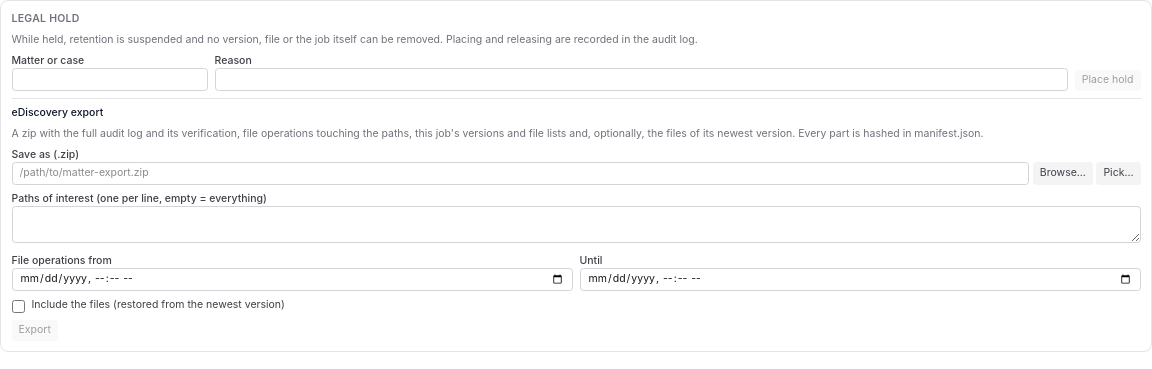
eDiscovery export › needs a matter when the job is not held
Type "/x/m.zip" into the field with test id "ediscovery-output". click: (520, 173)
box: [12,162,1029,184]
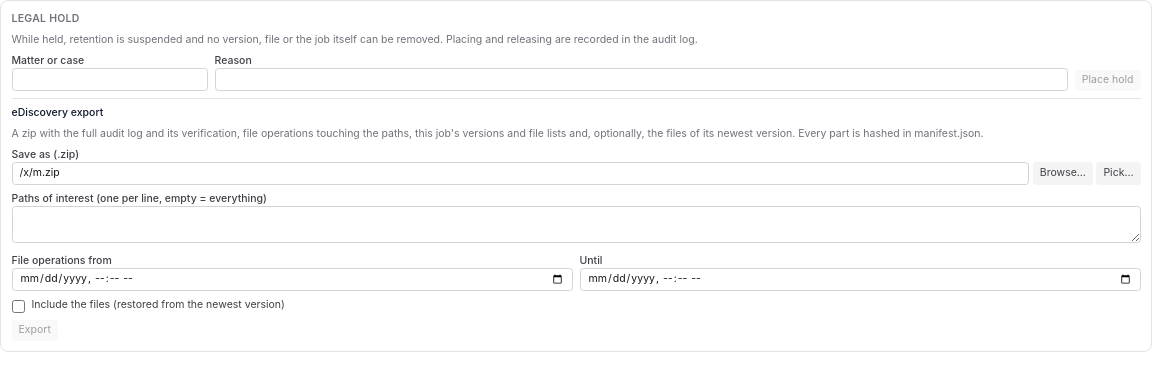
Expected: the button with test id "ediscovery-export" is disabled, [12,320,58,341]
Type "Case 9" into the field labelled "Matter". click: (110, 79)
box: [12,68,208,90]
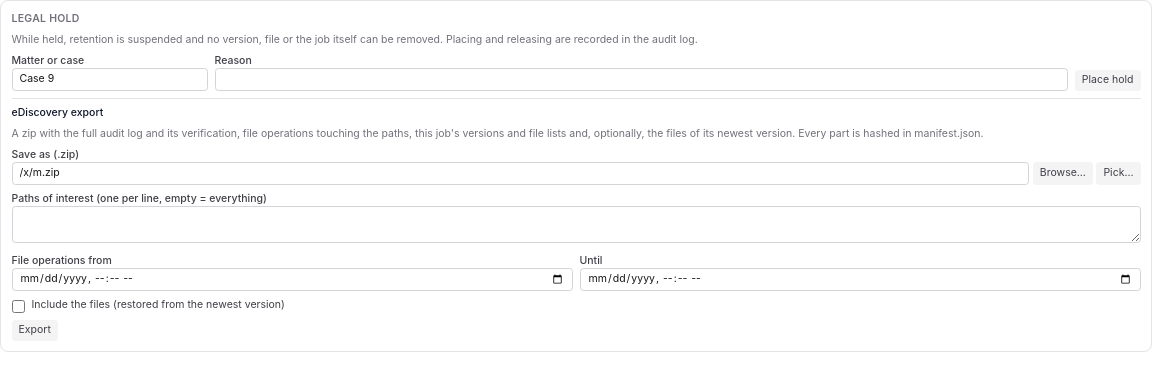
Now the button with test id "ediscovery-export" is enabled, box [12,320,58,341]
